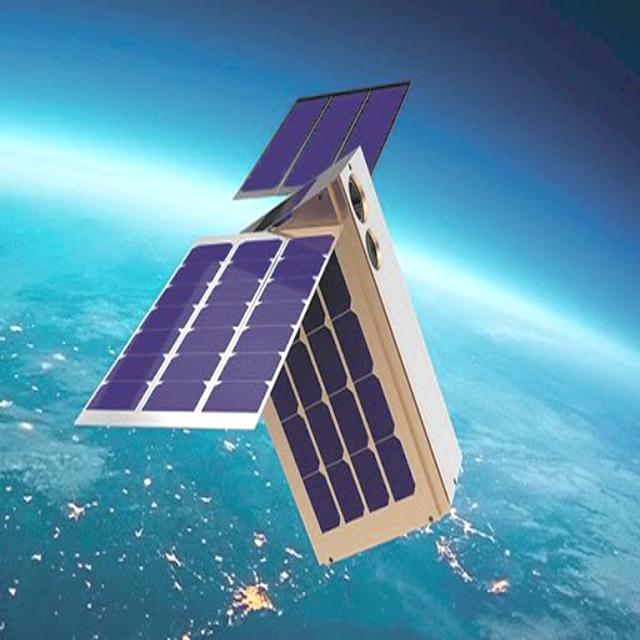medium_debris: (68, 62, 470, 586)
